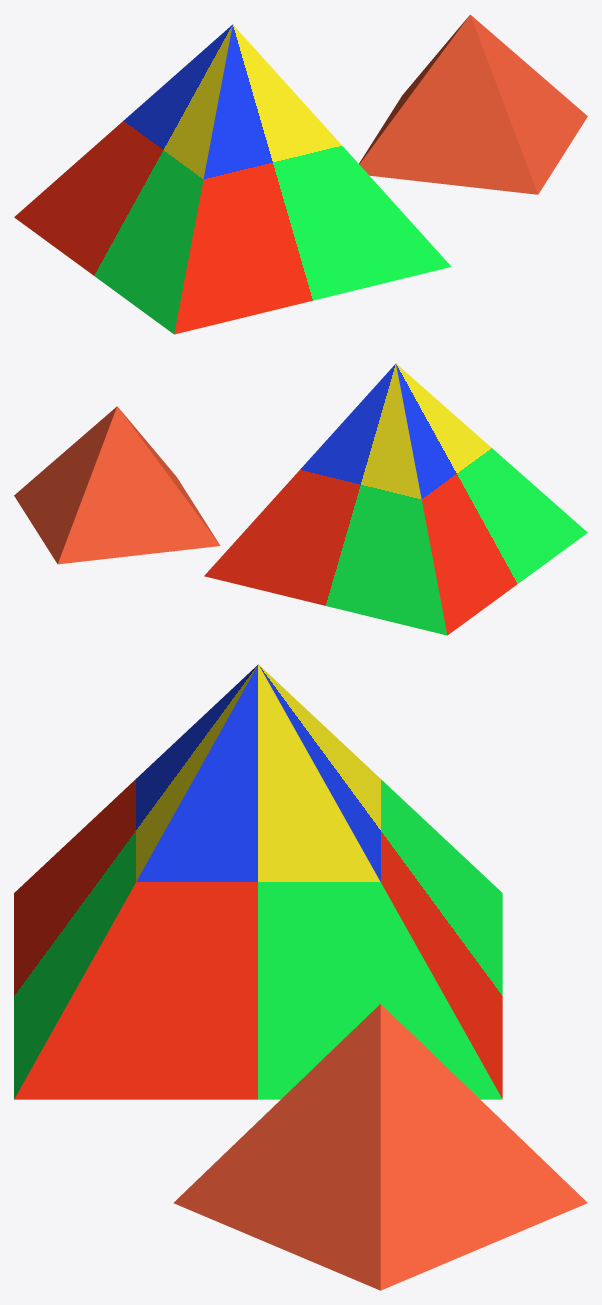
File: pyramids.glb
The picture shows the model from 3 angles, top to bottom: view 1: azimuth 30°, elevation 25°; view 2: azimuth 150°, elevation 25°; view 3: azimuth 270°, elevation 25°; orthographic projection. The views are drawn at different scales.
Visible parts, largest first — view 1: Textured pyramid, Coral pyramid; view 2: Textured pyramid, Coral pyramid; view 3: Textured pyramid, Coral pyramid.
Boxes of the visible parts, x1,y1,x2,y2 form: Textured pyramid: (14, 24, 451, 334); Coral pyramid: (359, 14, 587, 194); Textured pyramid: (204, 363, 587, 635); Coral pyramid: (14, 406, 220, 564); Textured pyramid: (14, 664, 502, 1099); Coral pyramid: (173, 1004, 587, 1290).
Size of the model in its own units: 7.7 by 3 by 4.7.
Materials: 2 (1 with a texture image).
